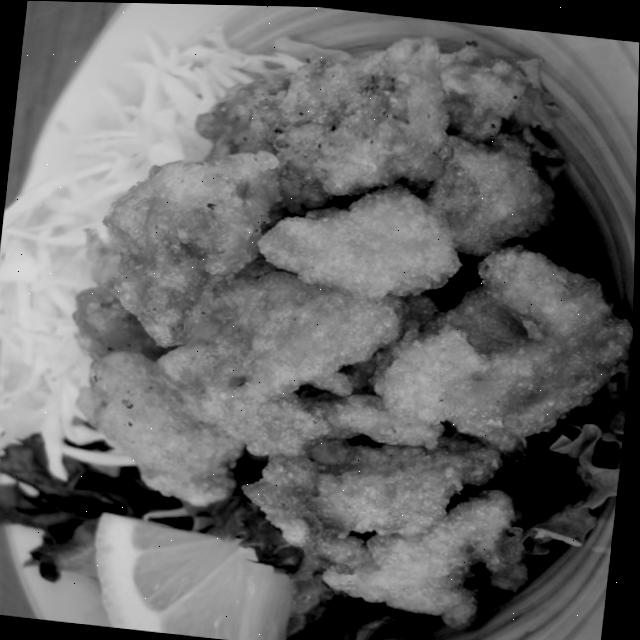鸡肉料理 含炸鸡: (47, 34, 639, 621)
